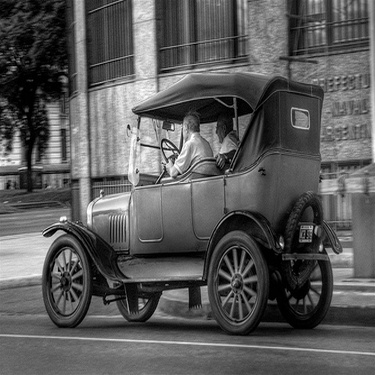car: (31, 61, 344, 340)
